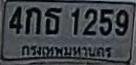1: (71, 8, 79, 35)
2: (82, 8, 97, 35)
4: (9, 6, 22, 34)
5: (100, 9, 114, 36)
9: (115, 10, 128, 36)
A01: (25, 7, 41, 34)
A24: (44, 7, 61, 34)
BKK: (18, 41, 113, 62)
